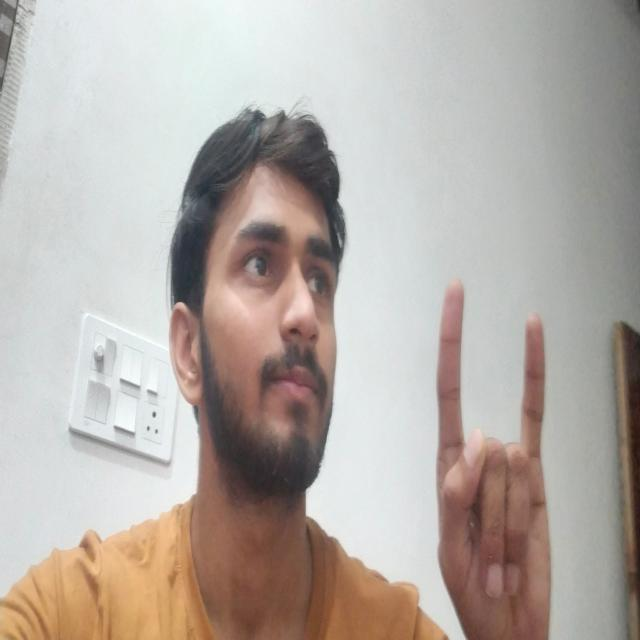iloveyou: (398, 257, 591, 640)
